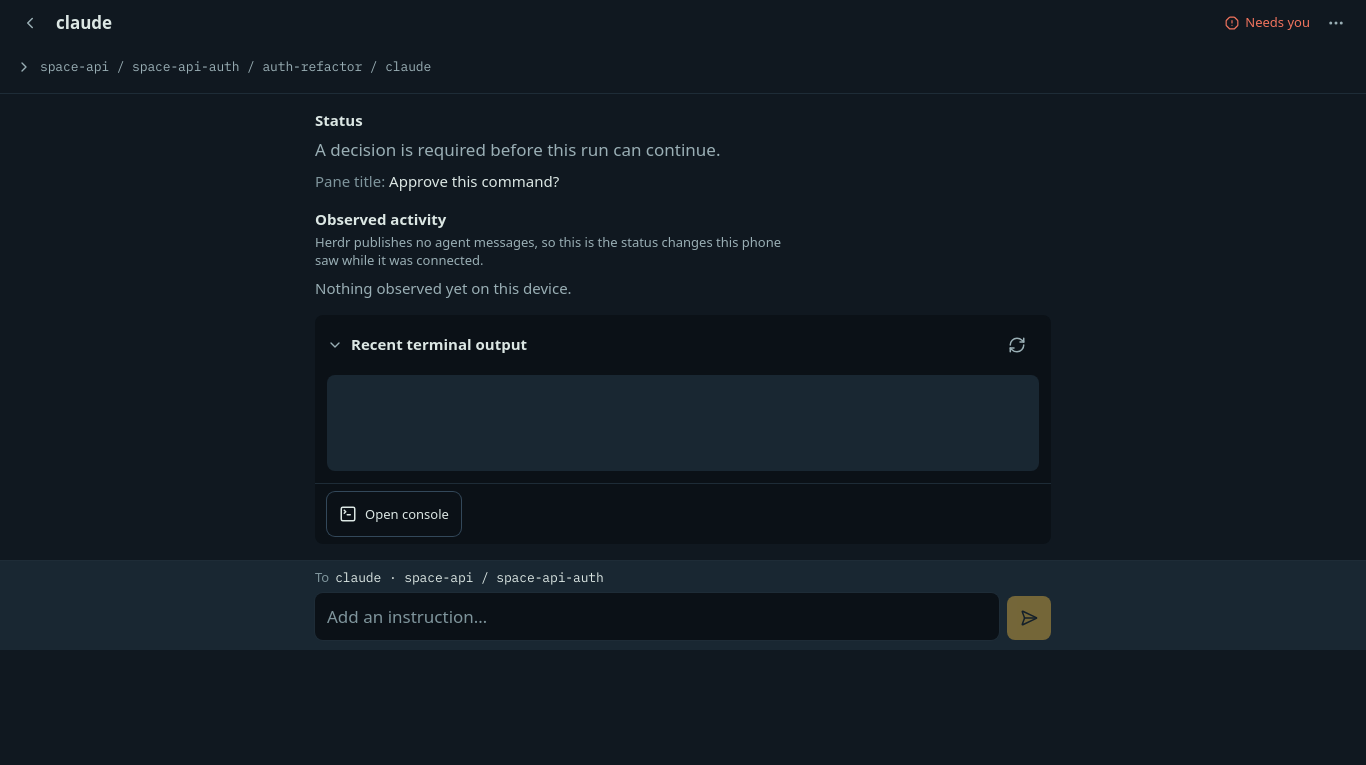
Test case: Run detail — instruction delivery › surfaces delivery-unknown with an explicit choice and no automatic retry
The image size is (1366, 765).
Type "deploy" into the text box named "instruction for claude" at (657, 616), box [315, 593, 999, 640]
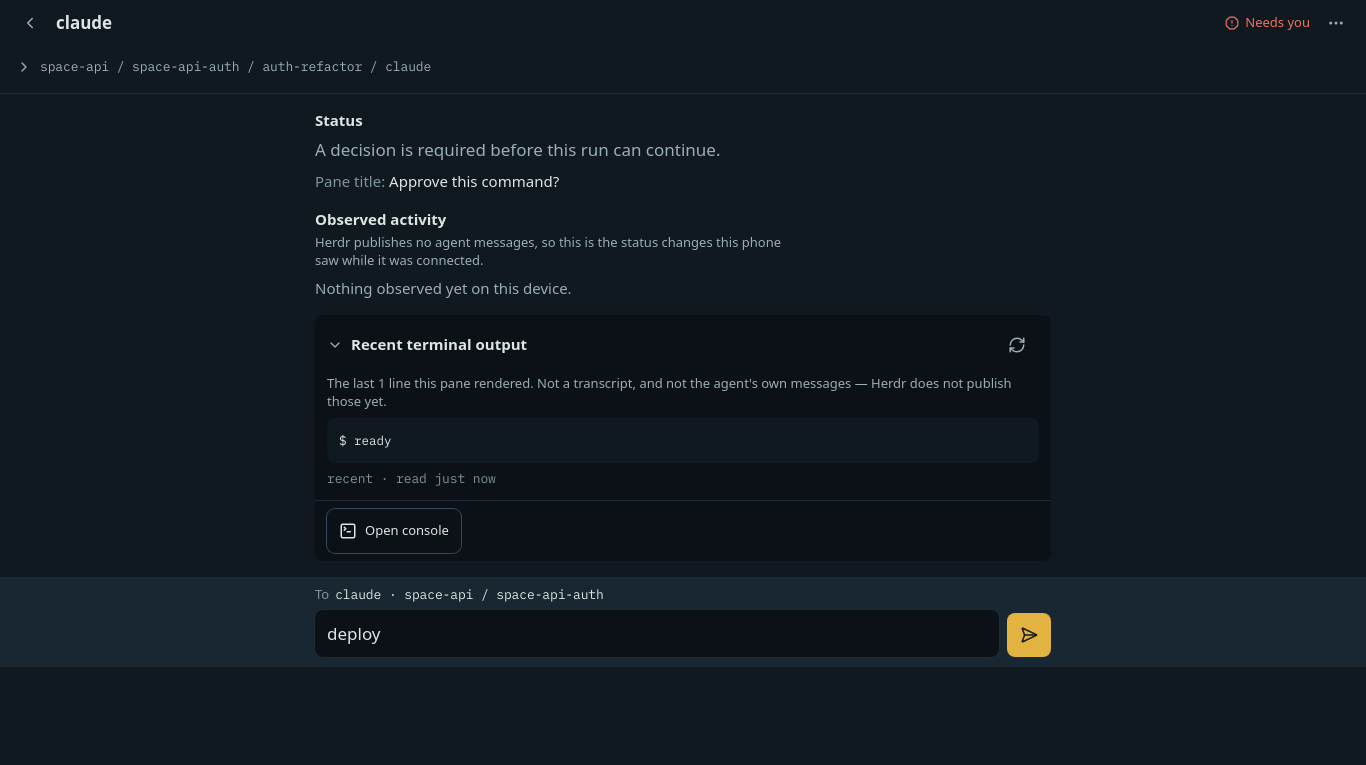
Check: the button named "send instruction" is enabled
Click the button named "send instruction" at (1029, 635), box [1007, 613, 1051, 657]
(page scrolled)
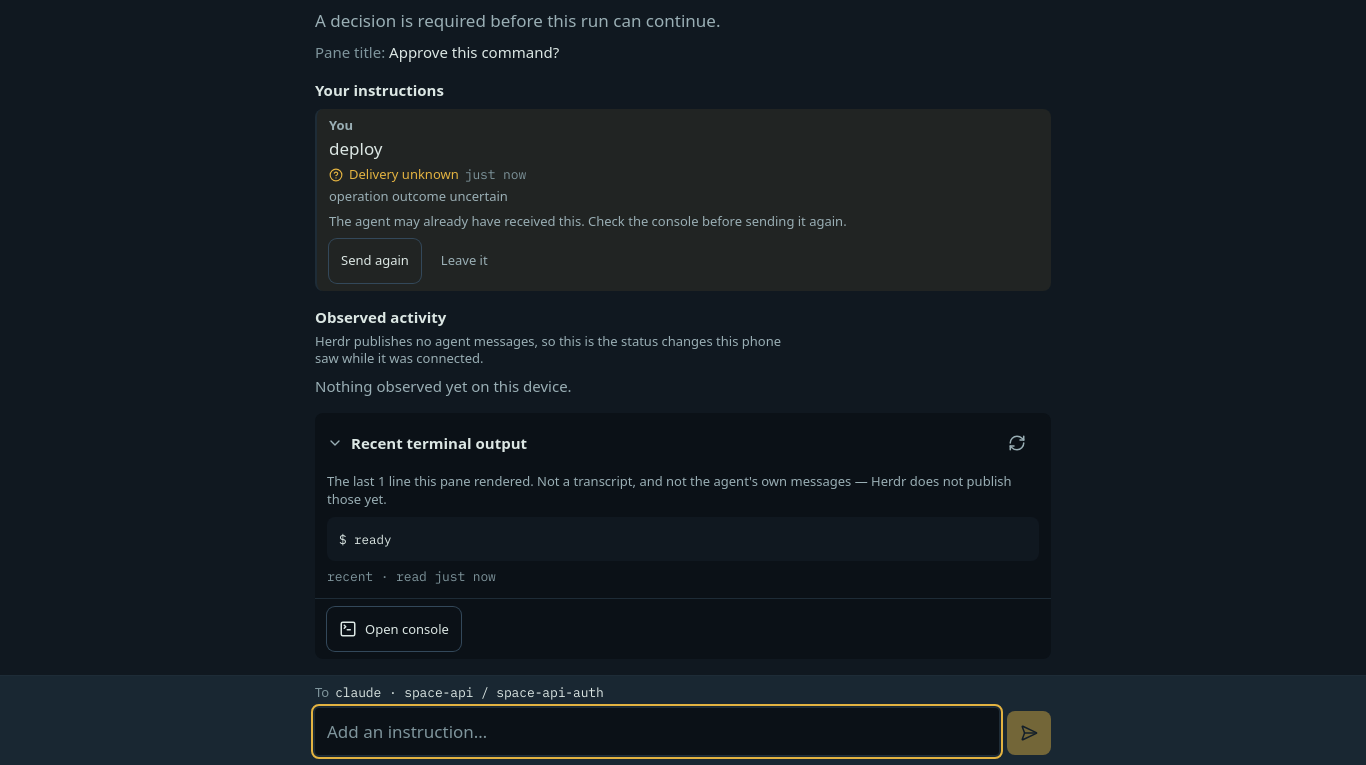
Check: the text "Delivery unknown" is shown, box [349, 165, 459, 183]
Check: the text "may already have received this" is shown, box [329, 212, 847, 230]
Check: the button "Send again" is shown, box [329, 239, 421, 283]
